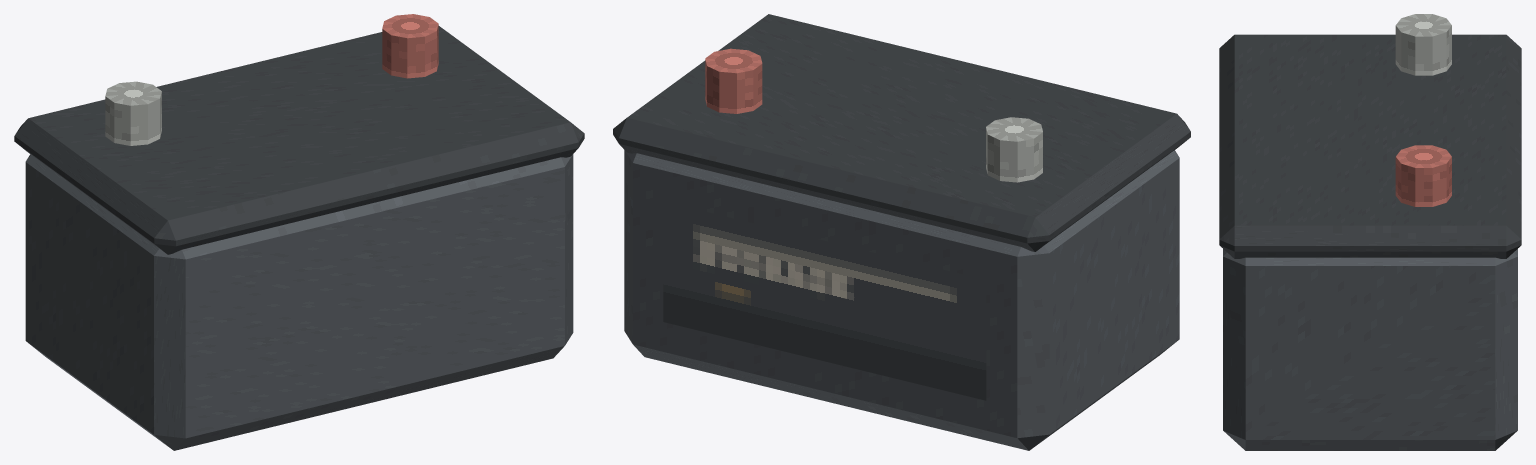
The model's file is battery_ups.glb.
The picture shows the model from 3 angles, left to right: view 1: azimuth 30°, elevation 25°; view 2: azimuth 150°, elevation 25°; view 3: azimuth 270°, elevation 25°; orthographic projection. The views are drawn at different scales.
Parts seen in each view (by area): view 1: block_battery casing, block_molded terminal cover, block_post (×2); view 2: block_battery casing, block_molded terminal cover, block_rating label, block_post (×2); view 3: block_molded terminal cover, block_battery casing, block_post (×2).
Part boxes in pixels (left/top/right/bottom): block_battery casing: left=25, top=154, right=573, bottom=450; block_molded terminal cover: left=14, top=26, right=584, bottom=254; block_post (×2): left=105, top=14, right=438, bottom=145; block_battery casing: left=624, top=150, right=1179, bottom=450; block_molded terminal cover: left=613, top=14, right=1190, bottom=251; block_rating label: left=663, top=201, right=986, bottom=400; block_post (×2): left=705, top=48, right=1042, bottom=182; block_molded terminal cover: left=1219, top=34, right=1521, bottom=258; block_battery casing: left=1223, top=249, right=1517, bottom=450; block_post (×2): left=1395, top=14, right=1451, bottom=206.
Bounding box in the file's own units: 0.1197 × 0.0738 × 0.075.
Materials: 1 (1 with a texture image).
